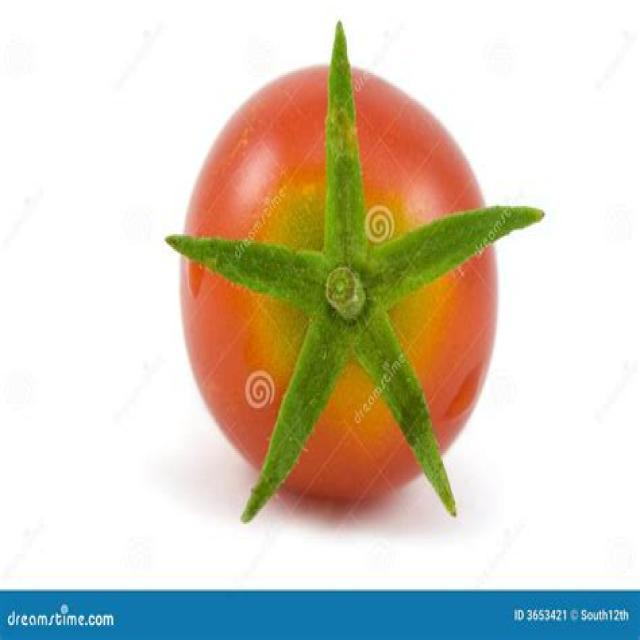Tomato: (164, 22, 544, 523)
